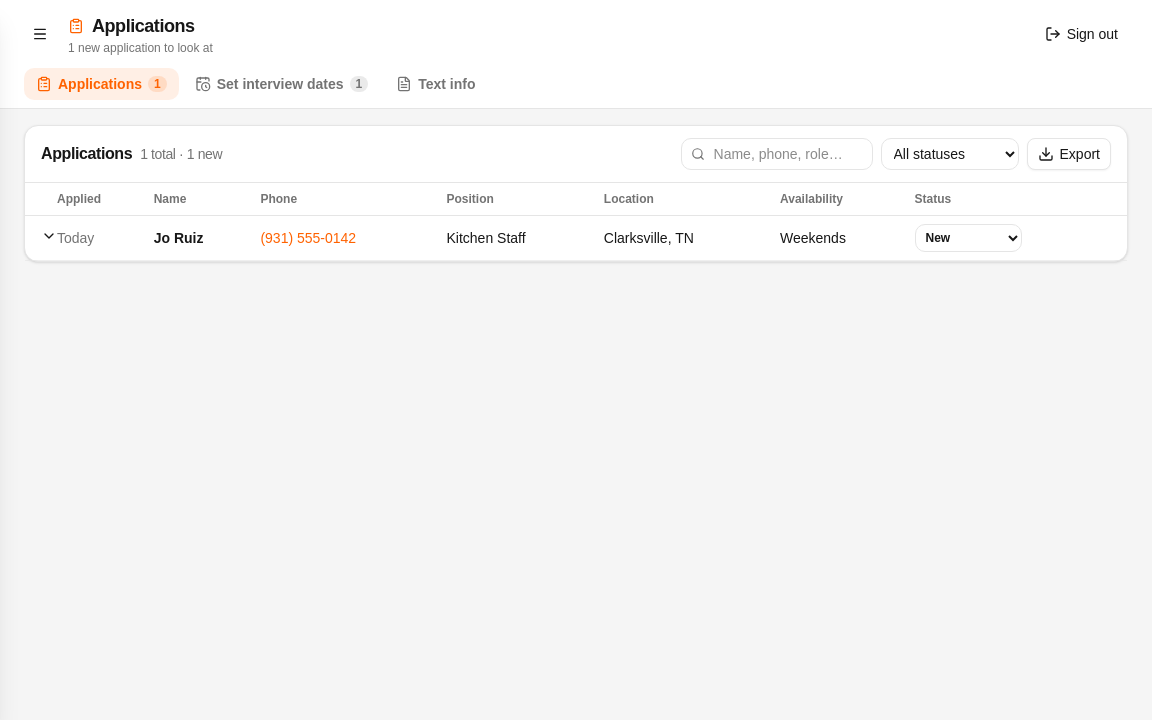
Test: the interviews section › flags a date that still has no time on it
Click the button "Set interview dates 1".
click(281, 84)  # box [183,68,380,100]
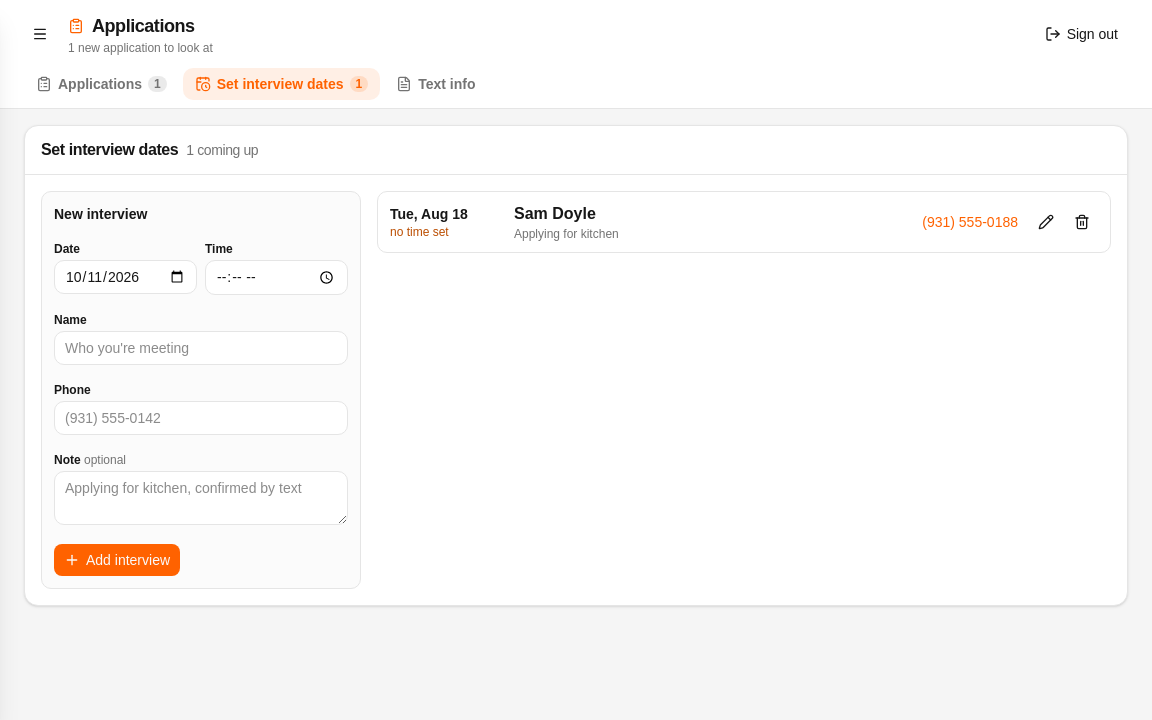
Expected: the text "no time set" is shown, [390,225,449,239]
